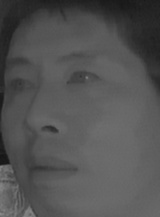eye: (64, 66, 102, 92), (4, 74, 37, 96)
mouth: (19, 151, 77, 191)
